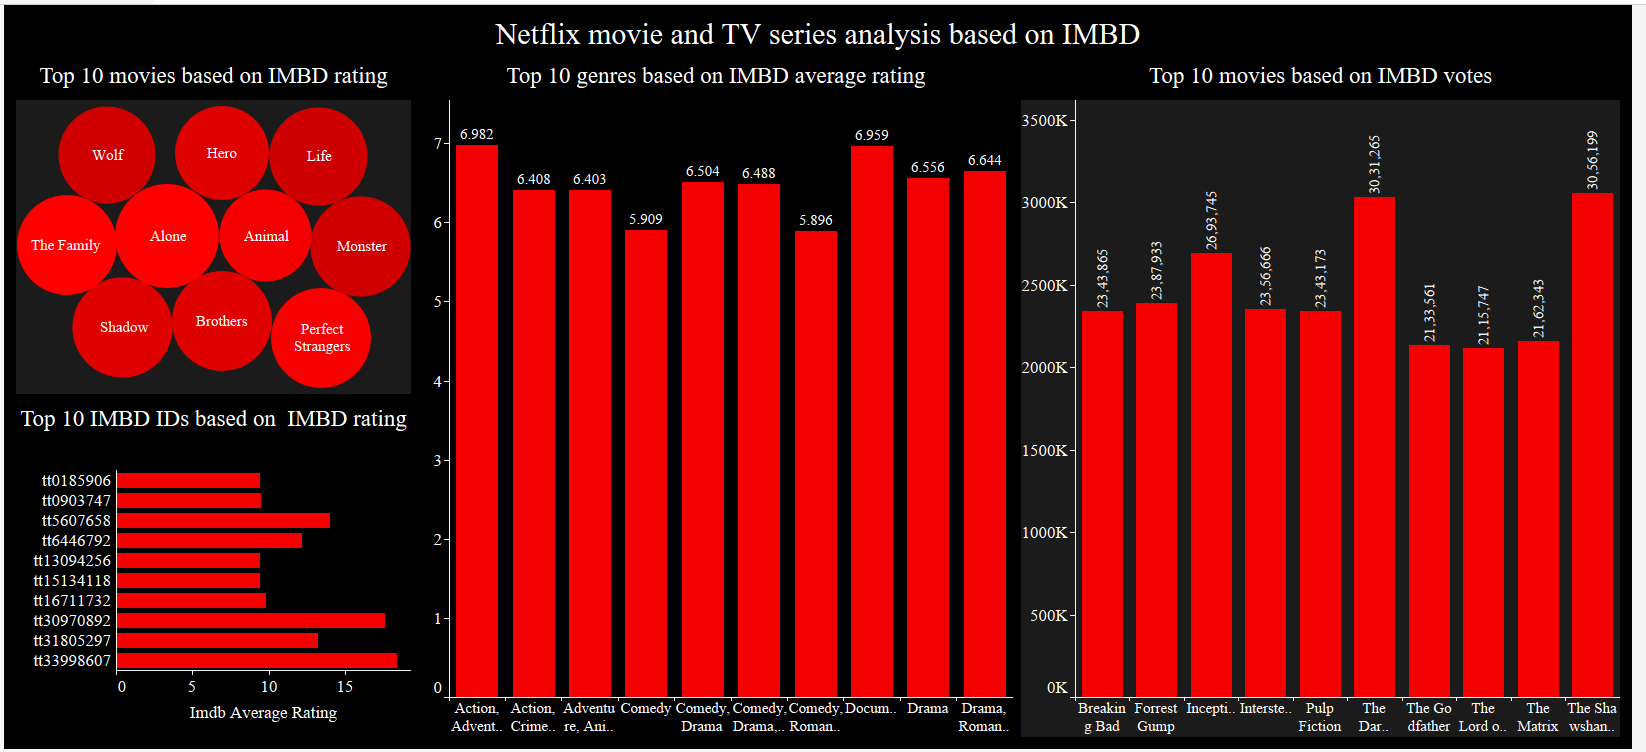

Layout of this report page (visuals, bound fields, positions):
{"tool":"tableau","page":{"name":"Movies","canvas":[1628,744],"ordinal":0},"visuals":[{"type":"title","box":[8,8,1612,42]},{"type":"worksheet","title":"10 movies","mark":"Circle","box":[8,50,403,343]},{"type":"worksheet","title":"10 genres","mark":"Automatic","rows":["imdbAverageRating"],"cols":["genres"],"box":[411,50,601.8,686]},{"type":"worksheet","title":"movies","mark":"Automatic","rows":["imdbNumVotes"],"cols":["title"],"box":[1012.7,50,607.3,686]},{"type":"worksheet","title":"ID","mark":"Automatic","rows":["imdbId"],"cols":["imdbAverageRating"],"box":[8,393,403,343]}]}

Visuals, with their boxes in screenshot pixels (x1, y1, x2, y2), scaled from the page's 1628x744 canvas onto the 1646x752 screenshot:
title: <bbox>8, 8, 1638, 51</bbox>
"10 movies" worksheet (Circle marks): <bbox>8, 51, 416, 397</bbox>
"10 genres" worksheet: <bbox>416, 51, 1024, 744</bbox>
"movies" worksheet: <bbox>1024, 51, 1638, 744</bbox>
"ID" worksheet: <bbox>8, 397, 416, 744</bbox>
